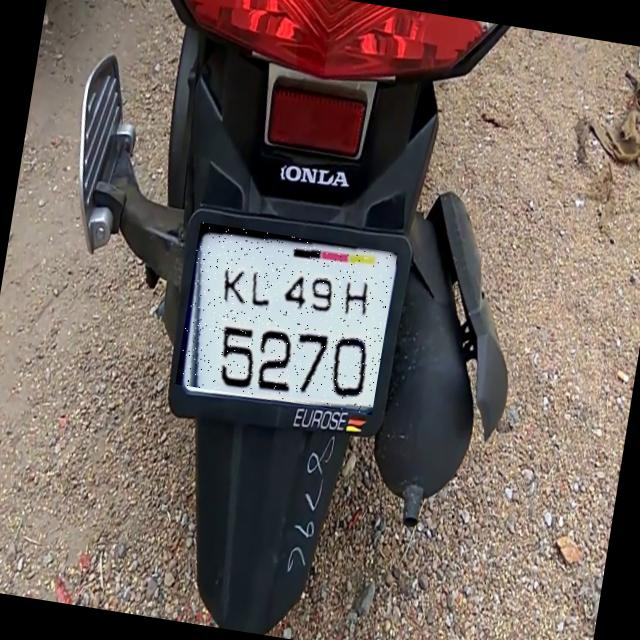Plate: (176, 224, 398, 417)
